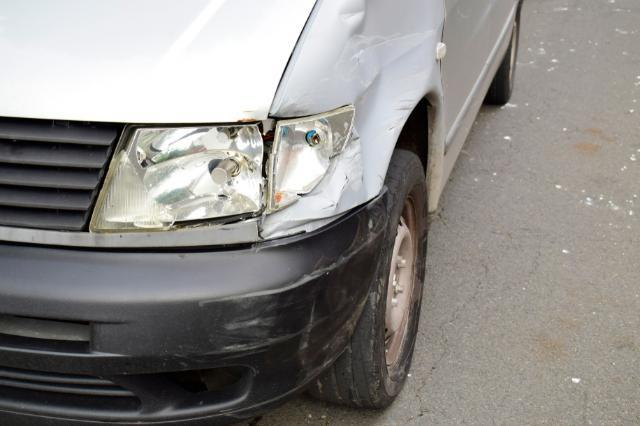Bumper: (144, 225, 394, 373)
Fender: (313, 0, 424, 207)
Light: (112, 124, 323, 204)
